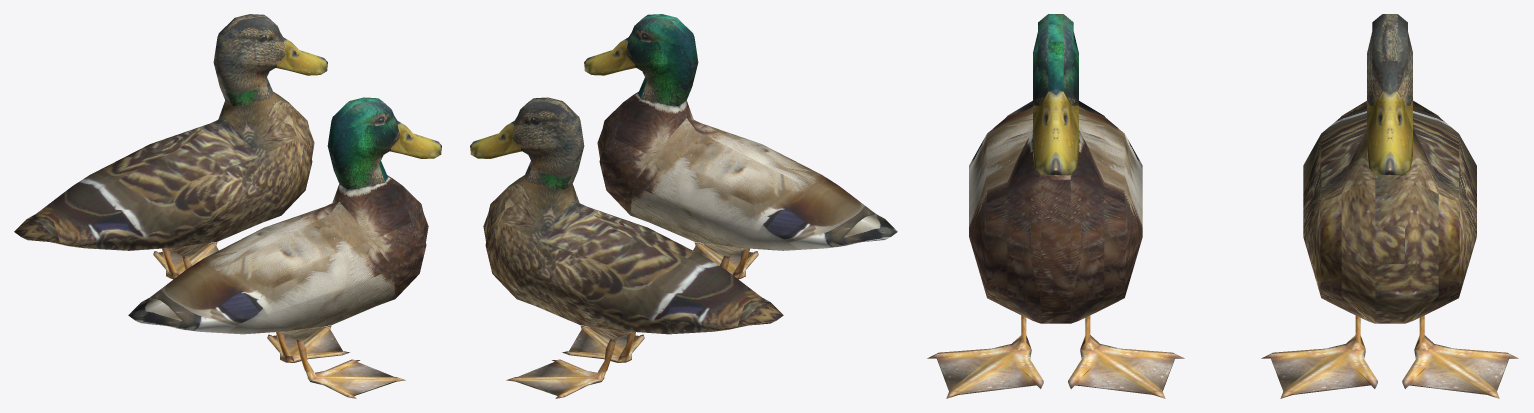
The model's file is Ducks.dae.
3 renders of one model, left to right at view 1: azimuth 30°, elevation 25°; view 2: azimuth 150°, elevation 25°; view 3: azimuth 270°, elevation 25°, orthographic. The views are drawn at different scales.
Parts seen in each view (by area): view 1: Duck_0, Duck_1; view 2: Duck_1, Duck_0; view 3: Duck_0, Duck_1.
Boxes of the visible parts, box(x1,y1,x2,y2) form: Duck_0: box(128, 97, 441, 398); Duck_1: box(14, 14, 327, 279); Duck_1: box(470, 97, 783, 398); Duck_0: box(584, 14, 897, 279); Duck_0: box(927, 14, 1184, 398); Duck_1: box(1261, 14, 1518, 398).
Size of the model in its own units: 81.04 by 91.53 by 63.42.
Materials: 3 (2 with a texture image).
